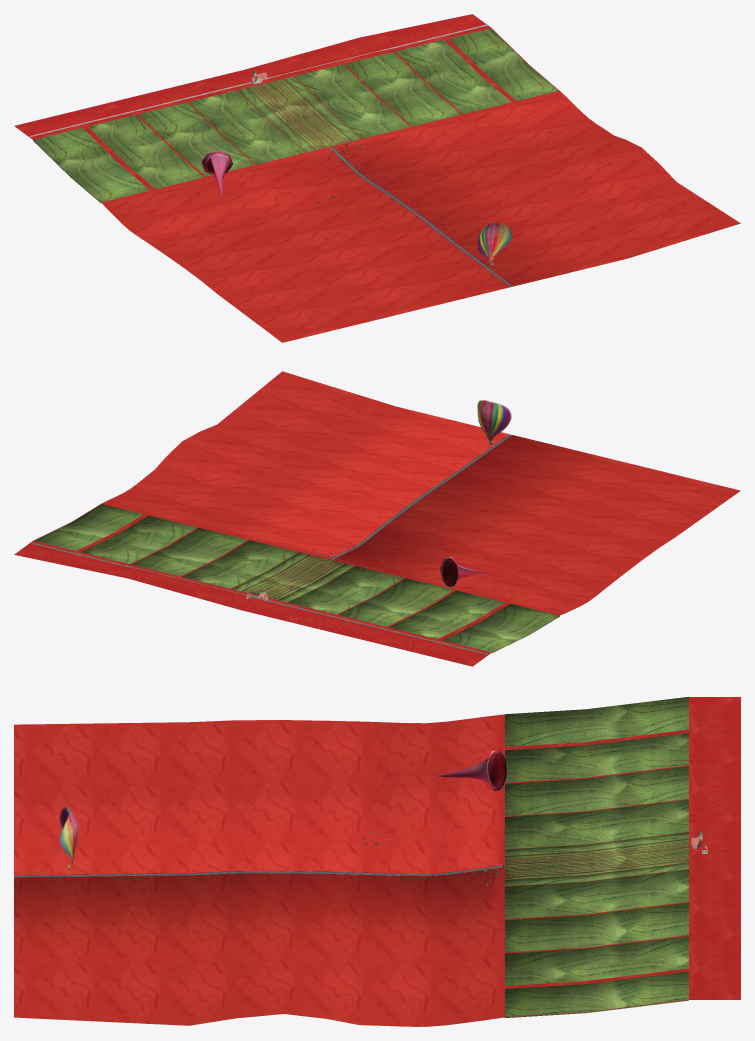
Rendered from visionblend.glb.
3 renders of one model, top to bottom at view 1: azimuth 30°, elevation 25°; view 2: azimuth 150°, elevation 25°; view 3: azimuth 270°, elevation 25°, orthographic. The views are drawn at different scales.
Parts seen in each view (by area): view 1: grass, grass_corn, air_balloon, fence, road, anish_trumpet; view 2: grass, grass_corn, air_balloon, fence, road, anish_trumpet; view 3: grass, grass_corn, road, anish_trumpet, air_balloon.
Part boxes in pixels (x1,y1,x2,y2): grass: (14, 14, 740, 342); grass_corn: (33, 28, 558, 203); air_balloon: (478, 223, 511, 266); fence: (30, 24, 487, 137); road: (330, 147, 512, 286); anish_trumpet: (201, 150, 233, 196); grass: (14, 371, 740, 666); grass_corn: (34, 504, 559, 652); air_balloon: (477, 400, 511, 444); fence: (29, 542, 487, 654); road: (330, 434, 511, 559); anish_trumpet: (440, 556, 488, 587); grass: (14, 697, 740, 1026); grass_corn: (505, 696, 688, 1017); road: (14, 865, 503, 877); anish_trumpet: (436, 749, 506, 791); air_balloon: (59, 807, 77, 870).
Size of what is drawn, in the model's own units: 1410 by 144 by 1427.
12 materials, 11 textured.
